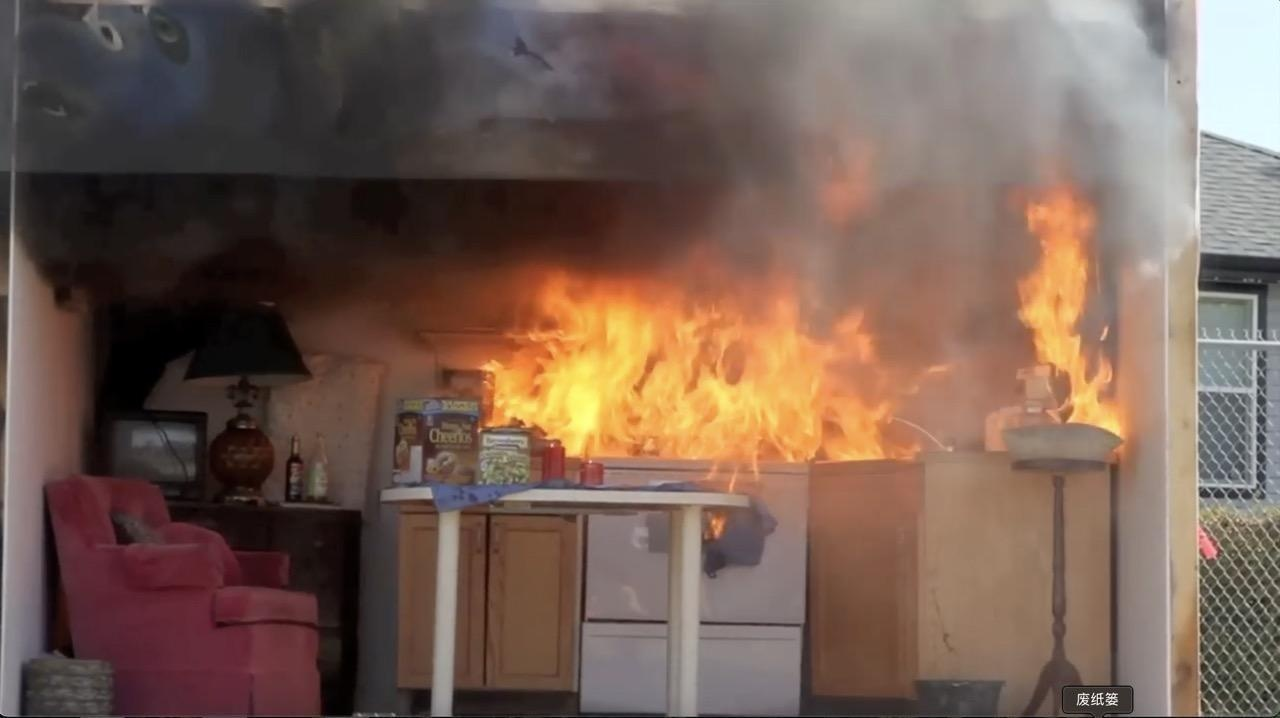fire: (496, 231, 1135, 508)
smoke: (12, 5, 1092, 208)
